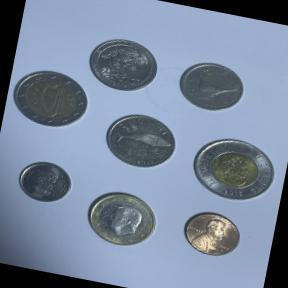1 Euro-B: (77, 182, 167, 256)
2 Euro-B: (2, 62, 94, 138)
Canada-10cent-B: (11, 152, 78, 210)
Canada-2Dollar-B: (181, 127, 284, 214)
Croatia-2Kune-B: (97, 104, 184, 178)
US-1cent-B: (175, 202, 249, 264)
US-25cent-B: (80, 30, 166, 100)
